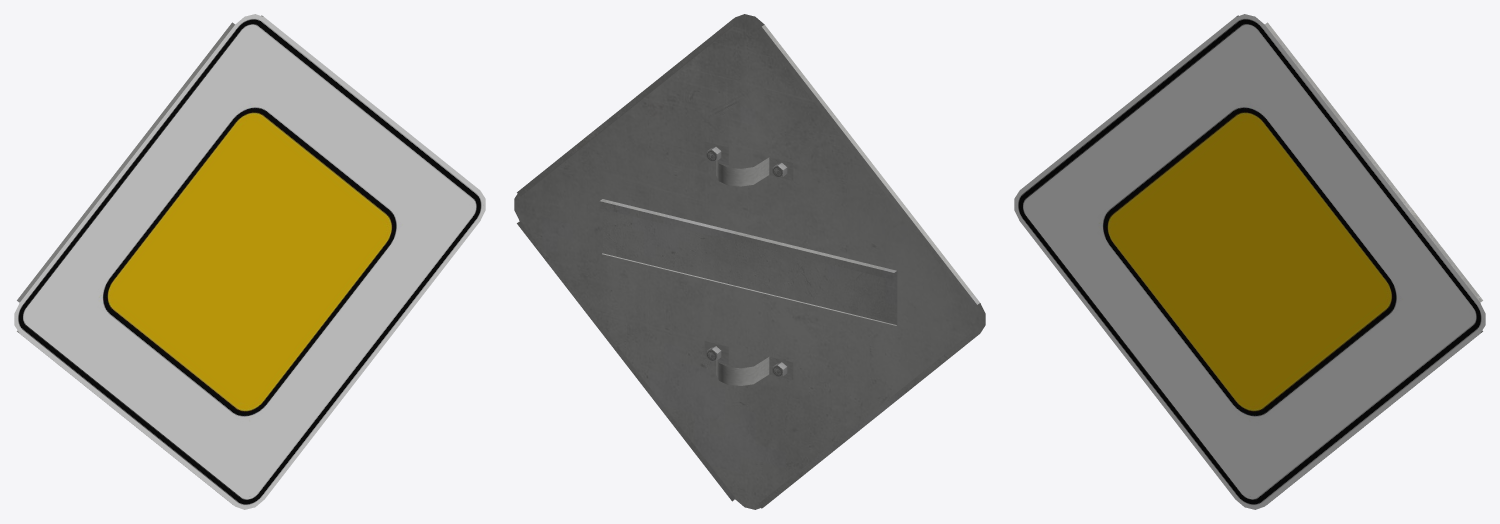
Rendered from sign_10.glb.
3 renders of one model, left to right at view 1: azimuth 30°, elevation 25°; view 2: azimuth 150°, elevation 25°; view 3: azimuth 330°, elevation 25°, orthographic.
Visible parts, largest first — view 1: sign_10; view 2: sign_10; view 3: sign_10.
Part boxes in pixels (<box>): sign_10: <box>14,14,485,509</box>; sign_10: <box>514,14,985,509</box>; sign_10: <box>1014,14,1485,509</box>.
Size of the model in its own units: 2.72 by 2.72 by 0.2205.
2 materials, 2 textured.
